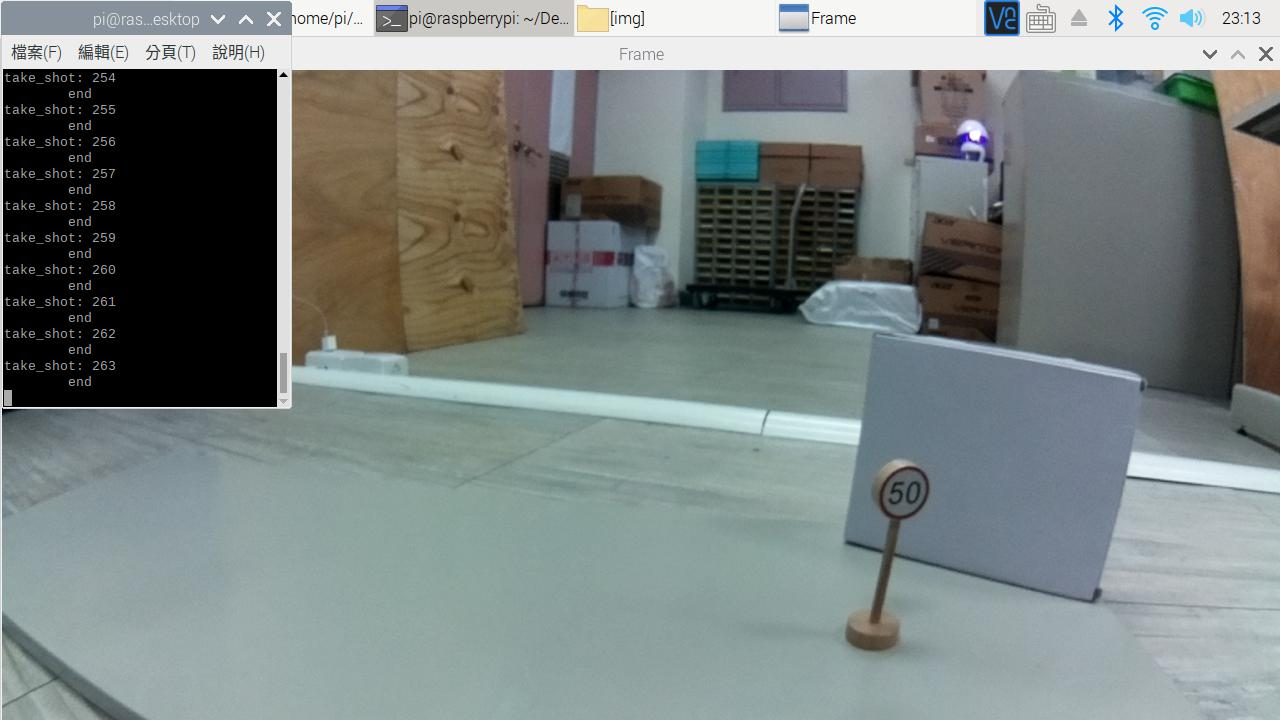Speed50: (861, 460, 935, 535)
